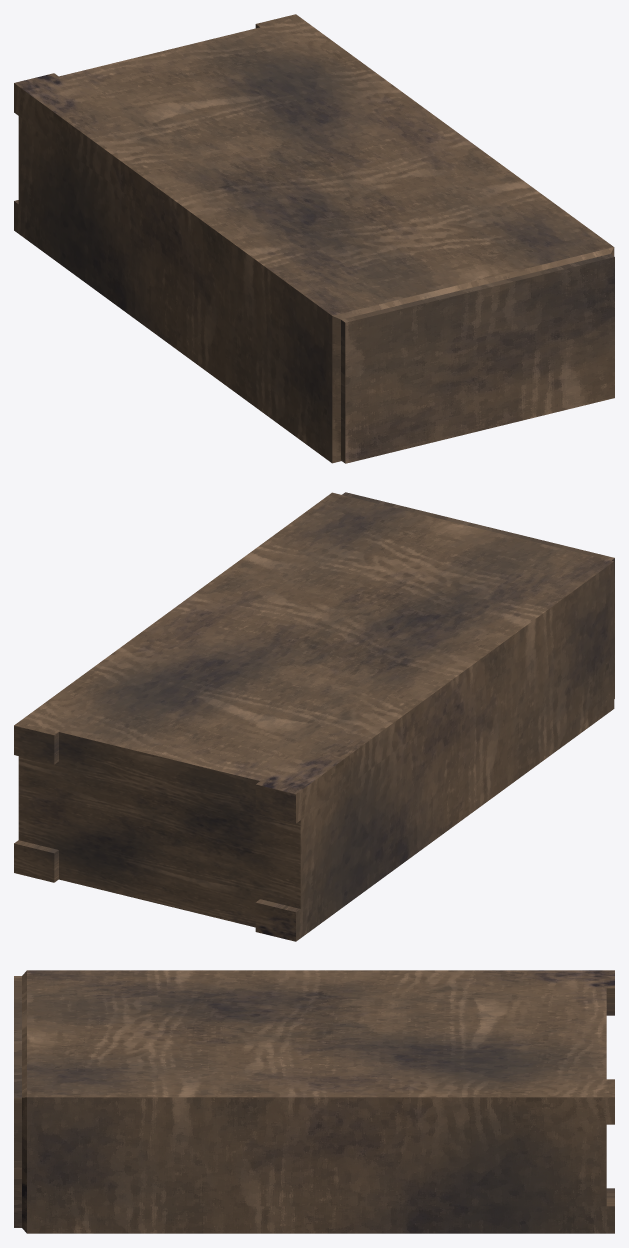
Rendered from 장애물_엎어진책장.fbx.
3 renders of one model, top to bottom at view 1: azimuth 30°, elevation 25°; view 2: azimuth 150°, elevation 25°; view 3: azimuth 270°, elevation 25°, orthographic. The views are drawn at different scales.
Parts seen in each view (by area): view 1: 엎어진책장; view 2: 엎어진책장; view 3: 엎어진책장.
Boxes of the visible parts, box(x1,y1,x2,y2) form: 엎어진책장: box(14, 14, 614, 463); 엎어진책장: box(14, 492, 614, 941); 엎어진책장: box(14, 970, 614, 1233).
Size of the model in its own units: 100 by 50 by 200.
Materials: 1 (1 with a texture image).
